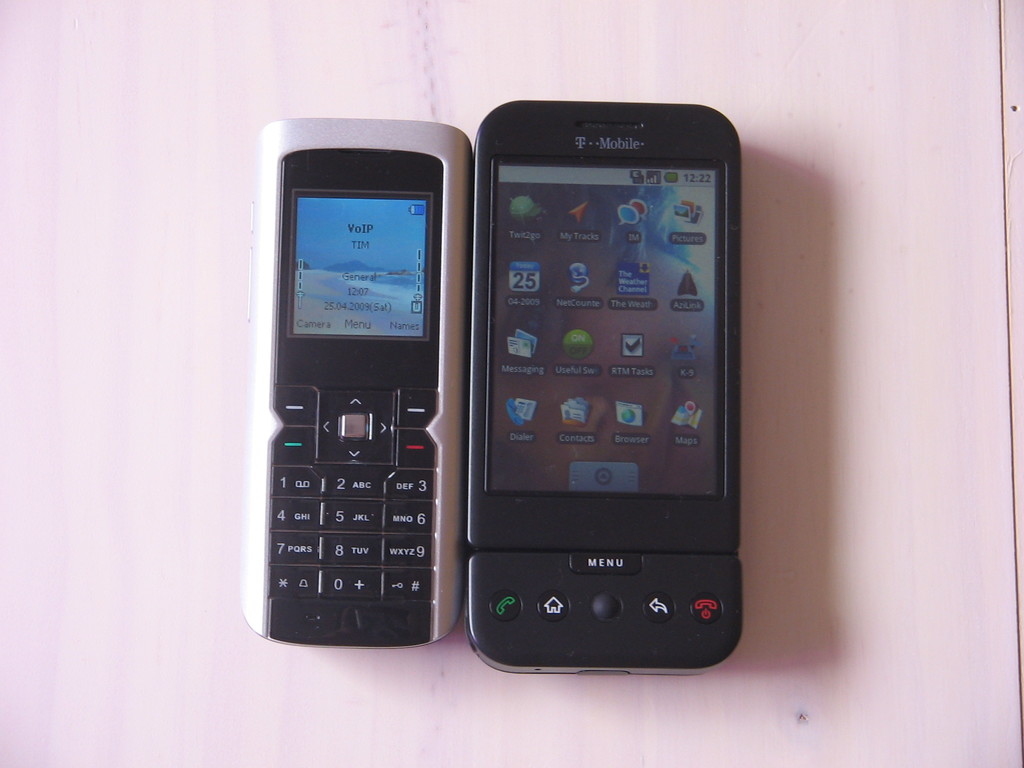mobile phone: (464, 97, 744, 681), (236, 116, 474, 650)
